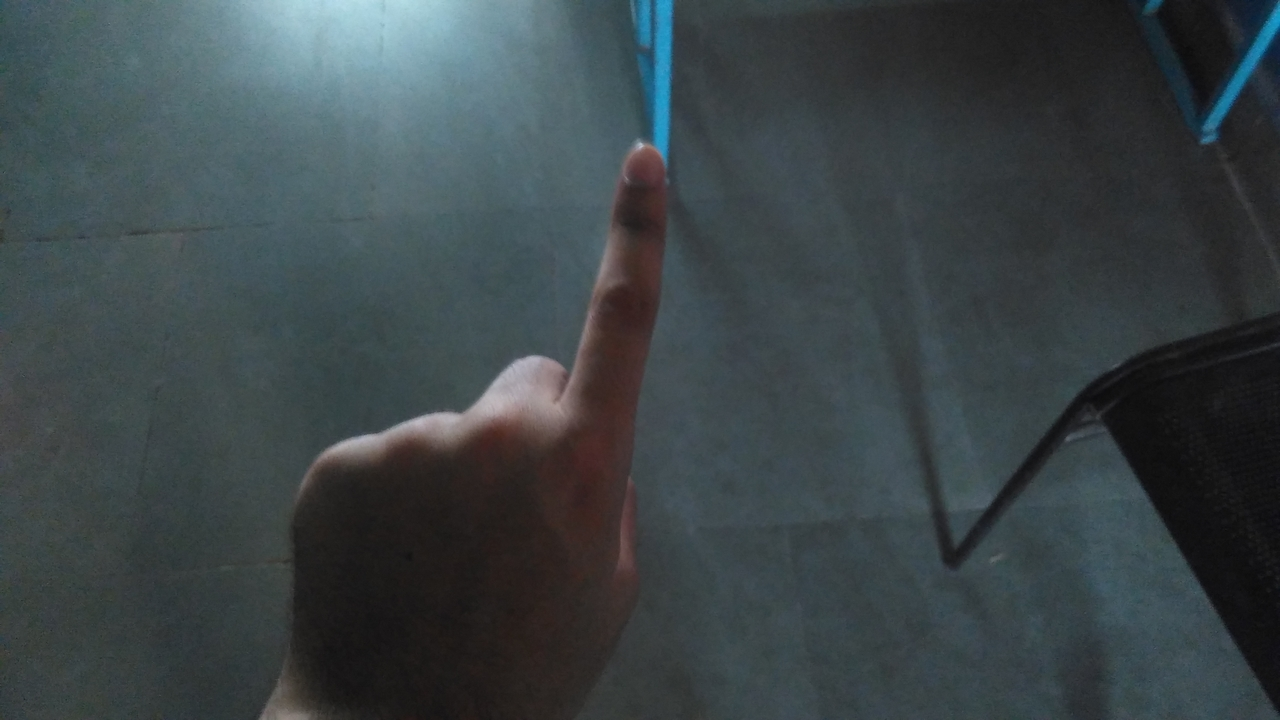fingertip: (612, 134, 672, 190)
